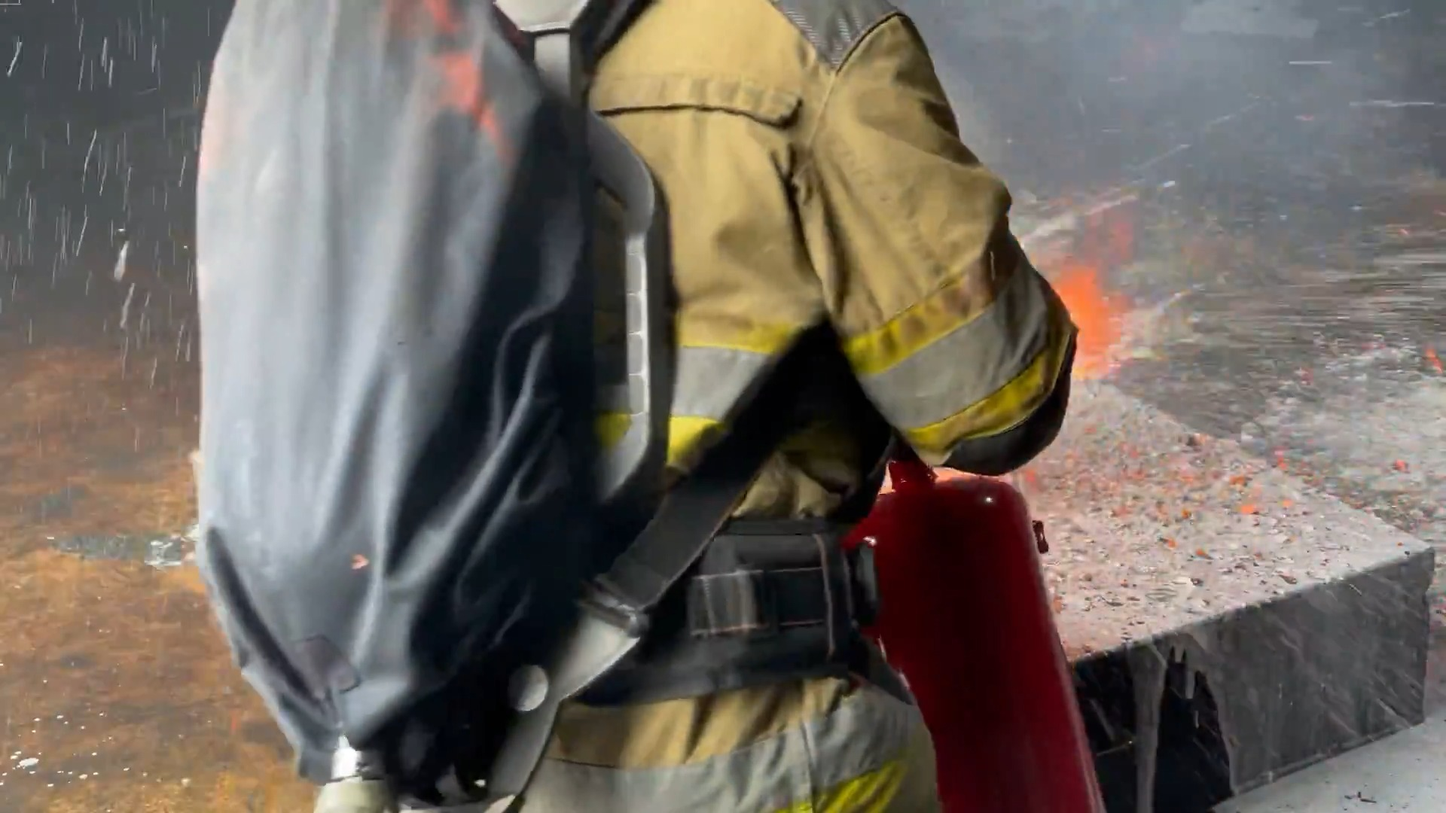fire: (1039, 233, 1133, 387)
